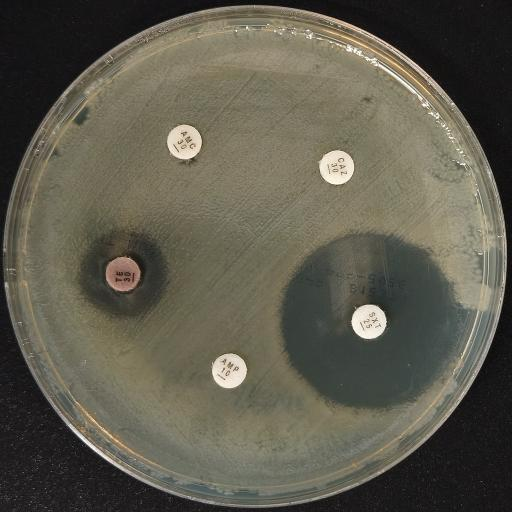disc: (105, 256, 141, 292), (318, 149, 354, 185), (212, 353, 248, 388), (351, 304, 386, 340), (167, 124, 201, 159)
